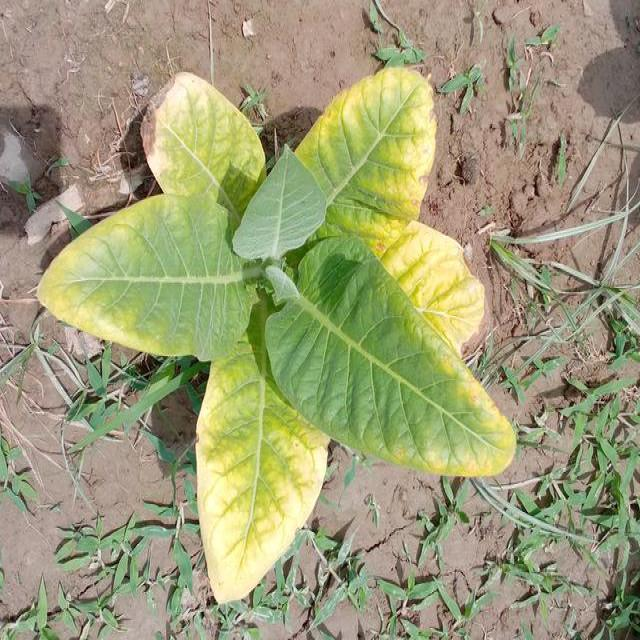crop: (63, 79, 520, 595)
